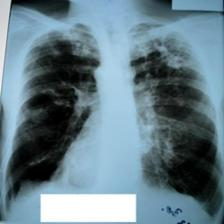tuberculosis: (3, 16, 224, 224)
